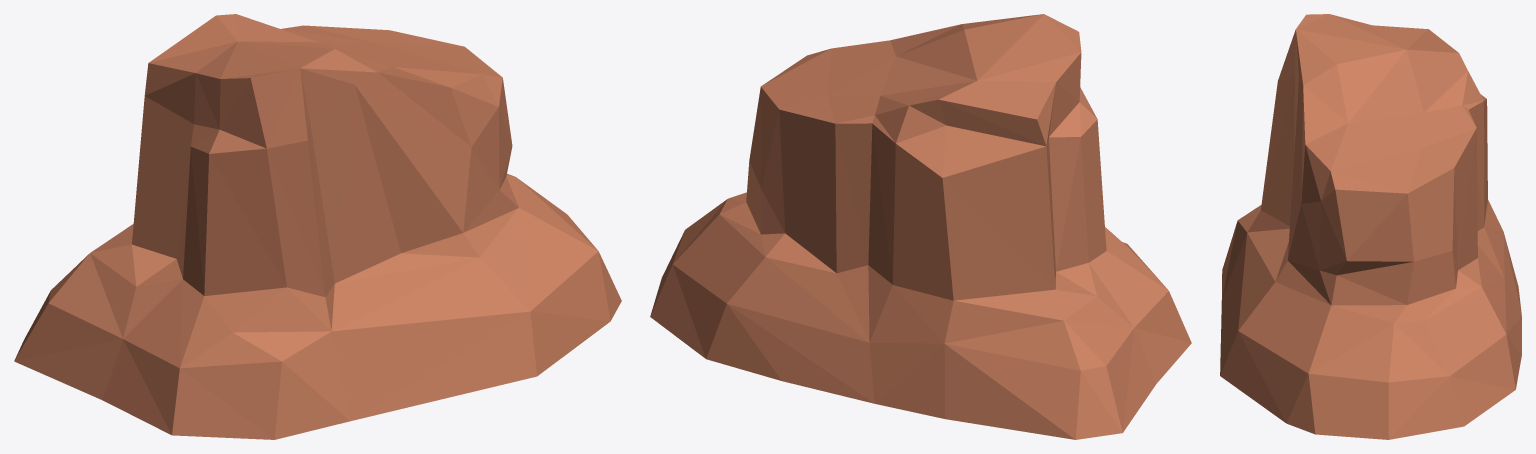
File: west_rock04.FBX
3 renders of one model, left to right at view 1: azimuth 30°, elevation 25°; view 2: azimuth 150°, elevation 25°; view 3: azimuth 270°, elevation 25°, orthographic. The views are drawn at different scales.
Visible parts, largest first — view 1: west_rock04; view 2: west_rock04; view 3: west_rock04.
Part boxes in pixels (box(x1,y1,x2,y2)): west_rock04: box(14, 14, 621, 439); west_rock04: box(650, 14, 1191, 439); west_rock04: box(1220, 14, 1521, 439).
Size of the model in its own units: 7563 by 4394 by 4448.
